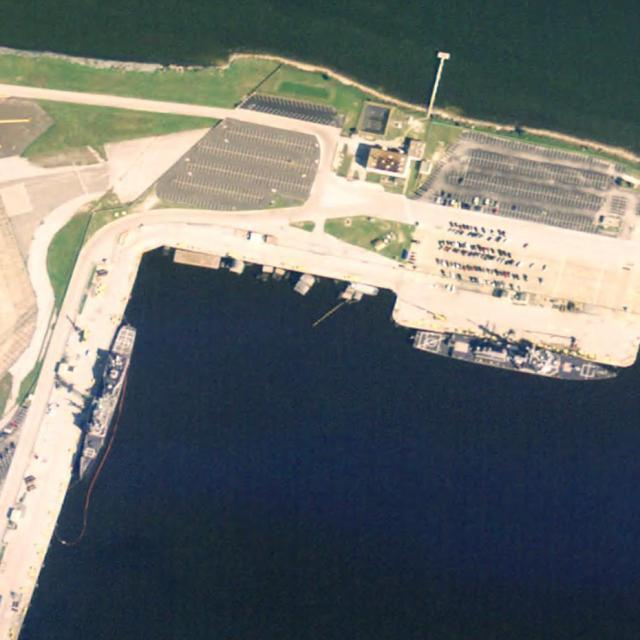Destroyer: (411, 326, 620, 390)
Frigate: (70, 323, 140, 483)
